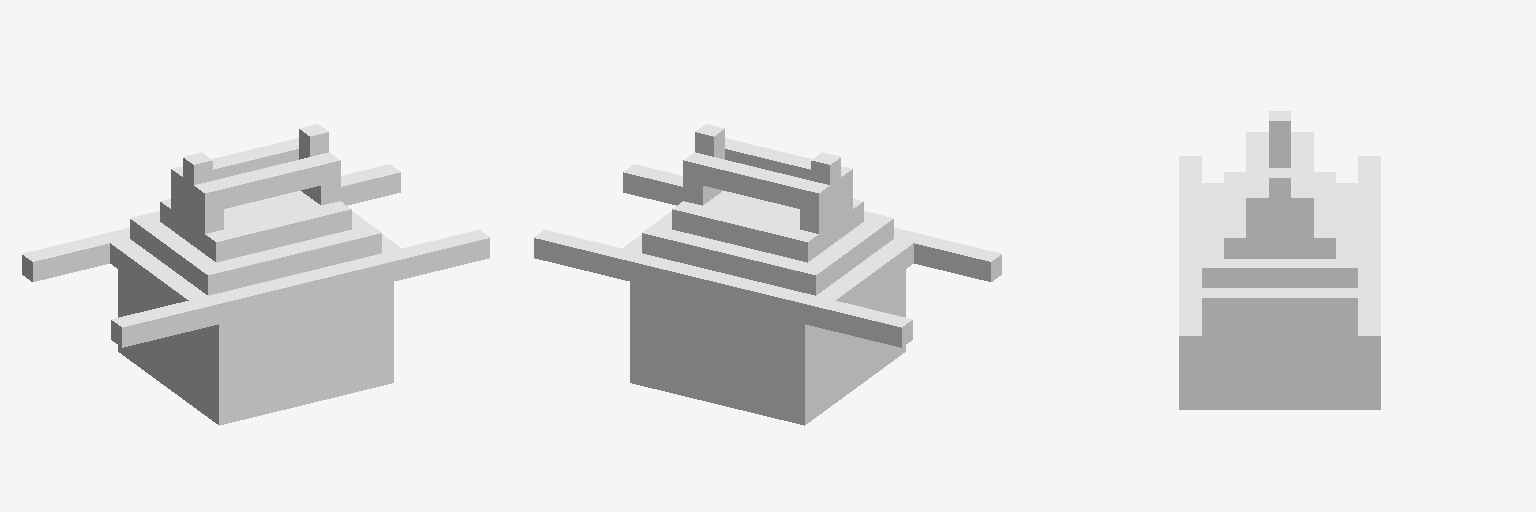
The model's file is arc.obj.
3 views of the same model, side by side, from view 1: azimuth 30°, elevation 25°; view 2: azimuth 150°, elevation 25°; view 3: azimuth 270°, elevation 25° (orthographic).
Parts seen in each view (by area): view 1: object 1; view 2: object 1; view 3: object 1.
Boxes of the visible parts, x1=… form: object 1: x1=22, y1=124, x2=489, y2=425; object 1: x1=534, y1=124, x2=1001, y2=425; object 1: x1=1179, y1=111, x2=1380, y2=409.
Bounding box in the file's own units: 1.9 × 1.1 × 0.9.